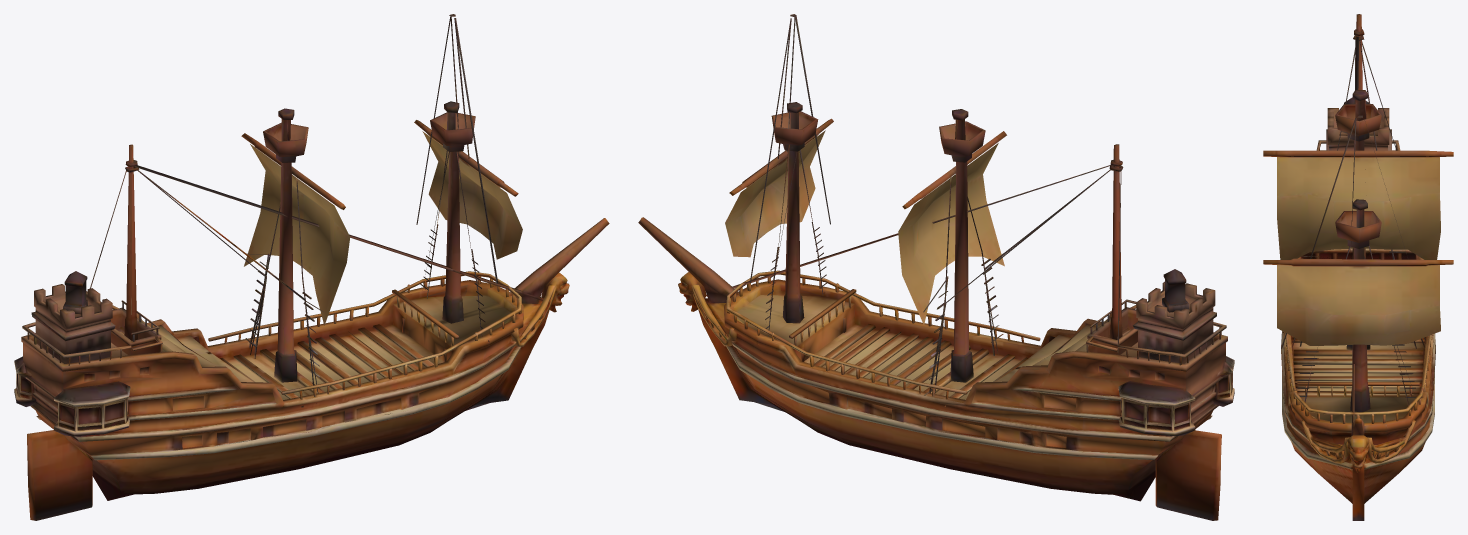
The model's file is grand_ferry_ship_art.glb.
3 renders of one model, left to right at view 1: azimuth 30°, elevation 25°; view 2: azimuth 150°, elevation 25°; view 3: azimuth 270°, elevation 25°, orthographic. The views are drawn at different scales.
Visible parts, largest first — view 1: tripo_node_4e9195c9-1753-4fd5-9719-b643316ab79a; view 2: tripo_node_4e9195c9-1753-4fd5-9719-b643316ab79a; view 3: tripo_node_4e9195c9-1753-4fd5-9719-b643316ab79a.
Part boxes in pixels (<box>): tripo_node_4e9195c9-1753-4fd5-9719-b643316ab79a: <box>14,14,609,520</box>; tripo_node_4e9195c9-1753-4fd5-9719-b643316ab79a: <box>638,14,1234,520</box>; tripo_node_4e9195c9-1753-4fd5-9719-b643316ab79a: <box>1263,14,1453,520</box>.
Bounding box in the file's own units: 36.39 × 24 × 10.75.
1 material, 1 textured.
